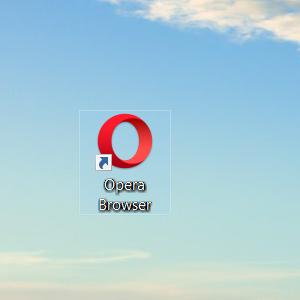opera: (95, 113, 152, 171)
